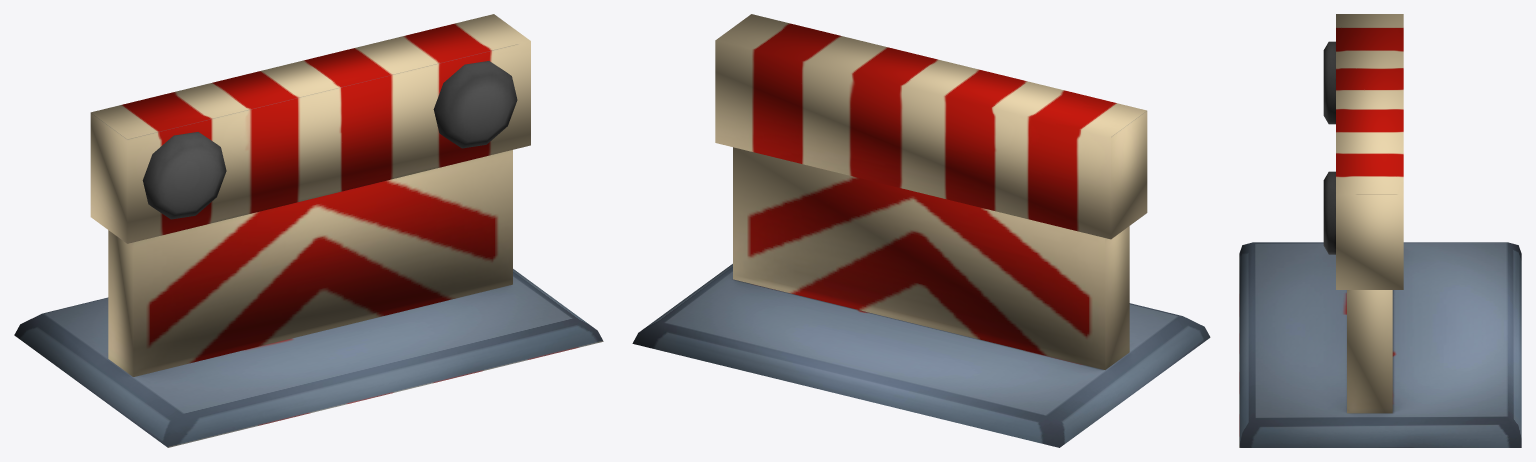
The model's file is fence_01.fbx.
The picture shows the model from 3 angles, left to right: view 1: azimuth 30°, elevation 25°; view 2: azimuth 150°, elevation 25°; view 3: azimuth 270°, elevation 25°; orthographic projection. The views are drawn at different scales.
Parts seen in each view (by area): view 1: fence_01; view 2: fence_01; view 3: fence_01.
Boxes of the visible parts, bbox=[...] form: fence_01: bbox=[14, 14, 603, 447]; fence_01: bbox=[632, 14, 1210, 447]; fence_01: bbox=[1239, 14, 1521, 447].
Size of the model in its own units: 266 by 156 by 163.
